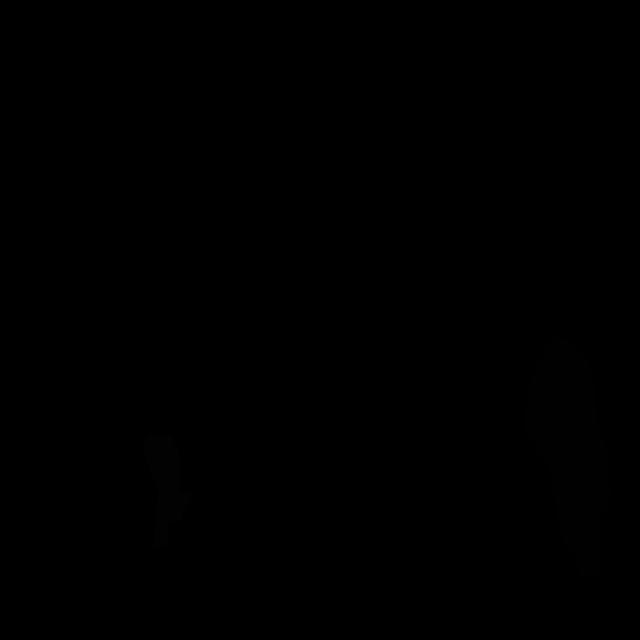cardboard: (143, 434, 194, 548)
rigid_plastic: (524, 335, 612, 579)
